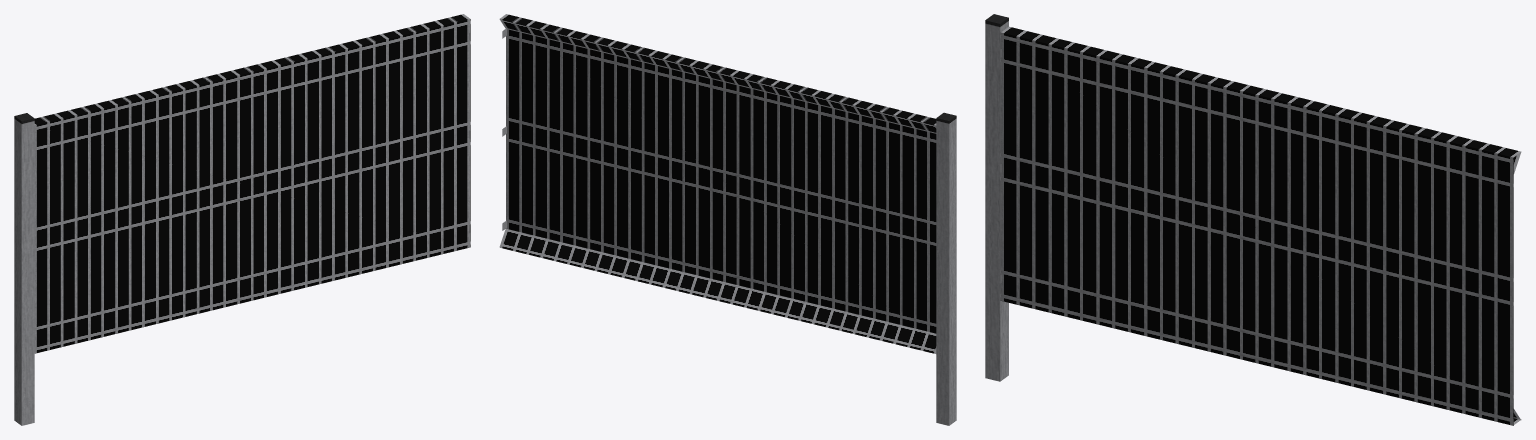
The model's file is fence-mesh-grey-1s-cbj_LOD00.gltf.
3 renders of one model, left to right at view 1: azimuth 30°, elevation 25°; view 2: azimuth 150°, elevation 25°; view 3: azimuth 330°, elevation 25°, orthographic. The views are drawn at different scales.
Visible parts, largest first — view 1: post; view 2: post; view 3: post.
Boxes of the visible parts, left/top/right/bottom form: post: left=14, top=14, right=470, bottom=425; post: left=499, top=14, right=956, bottom=425; post: left=985, top=14, right=1521, bottom=425.
Size of the model in its own units: 2.47 by 1.6 by 0.0702.
